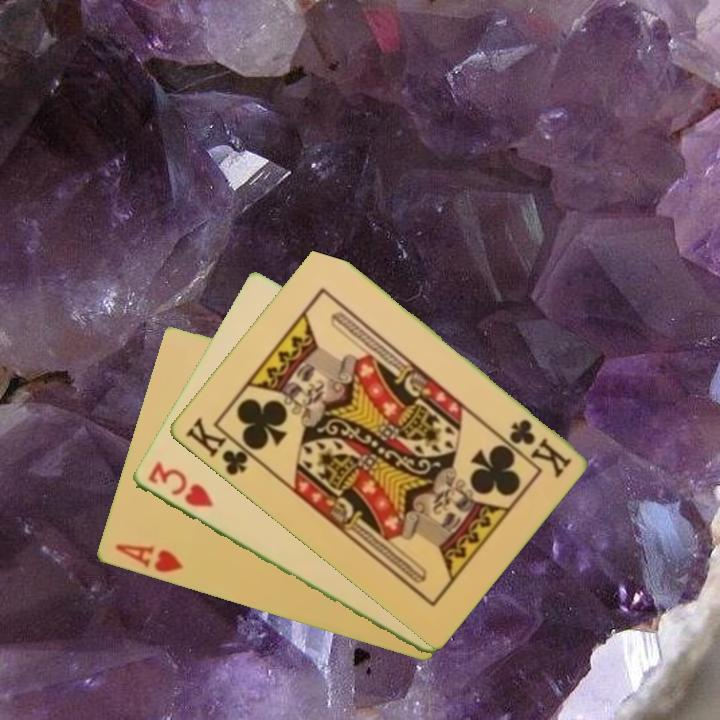3h: (143, 458, 216, 511)
Ah: (111, 540, 186, 576)
Kc: (181, 414, 260, 479), (505, 415, 574, 480)
